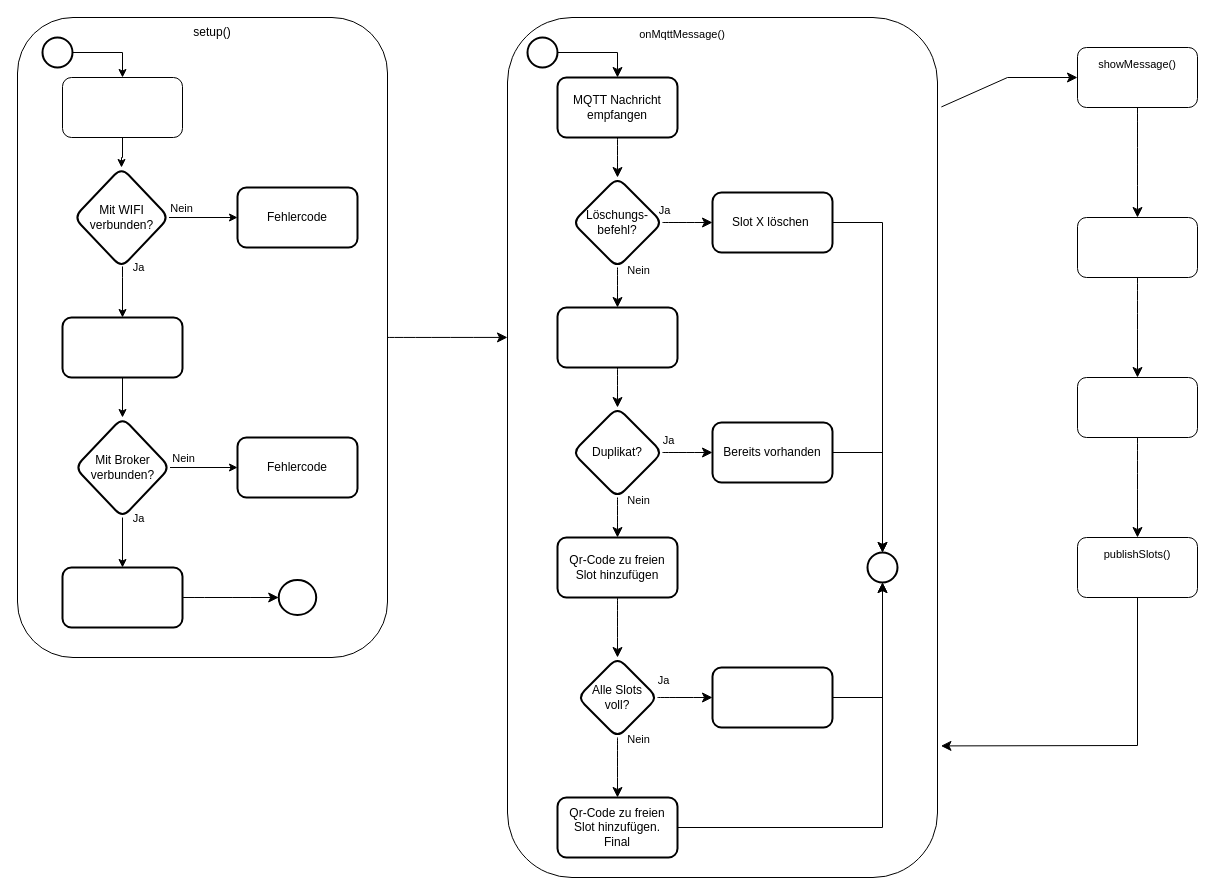
Image size: 1215x895. Some labels were removed from this diagram. The shapes that lost their labels are listed below. From the top down, each one's box as (x1, y1, x2, y2) in pixels, then its label:
(62, 76, 182, 138): pinMode & WIFI Verbindung
(1076, 216, 1198, 278): updateLCD()
(61, 316, 183, 378): Verbindung zum MQTT-Broker herstellen
(556, 306, 678, 368): Auf Duplikate prüfen
(1076, 376, 1198, 438): updateLEDs()
(61, 566, 183, 628): Abonniere Topics & Einrichtung Bildschirm
(711, 666, 833, 728): Alle Slots voll. Zeige Nachricht "Alle Slots sind voll"
